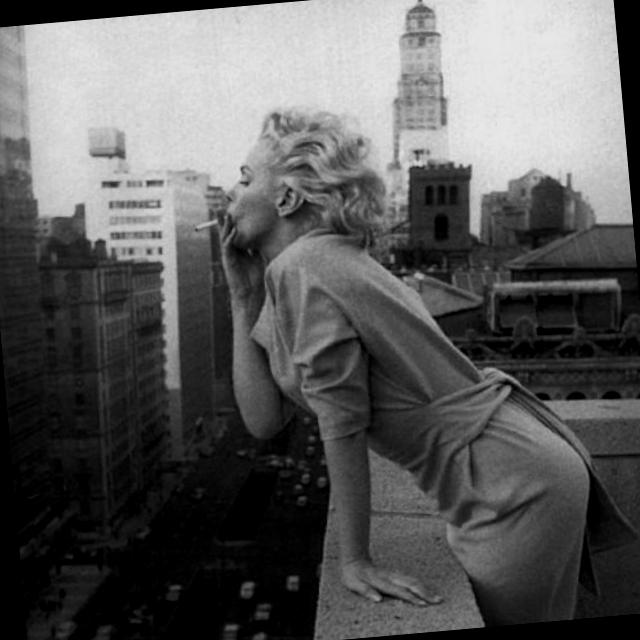smoke: (188, 215, 228, 235)
